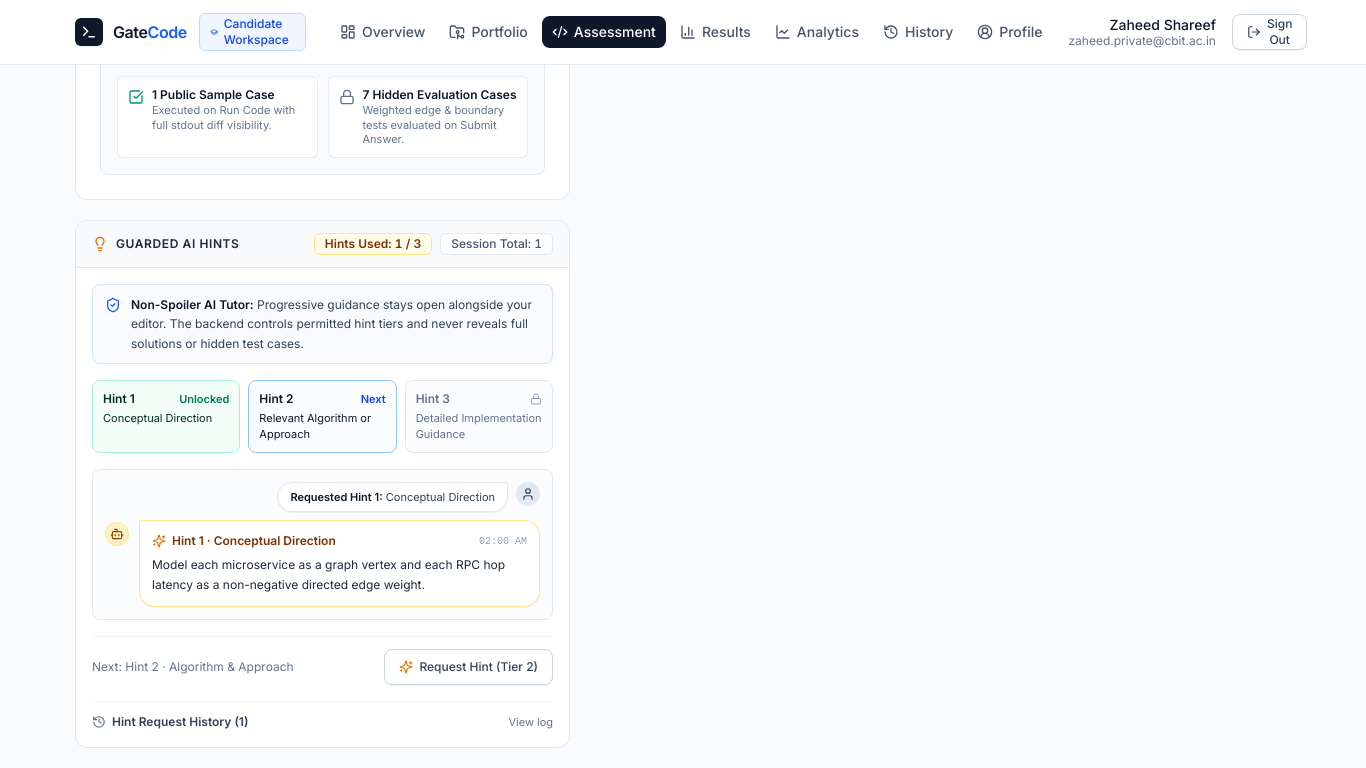
Test case: AI Intelligence, Analytics & Student Profile Frontend Modules › 2. displays progressive Hint 1, Hint 2, and Hint 3 levels, redacts leaked solution code, and handles AI service failures gracefully
(page scrolled)
Expected: the text "Model each microservice as a graph vertex" is shown, [152,557,505,592]
Expected: the text "Hints Used: 1 / 3" is shown, [314,233,432,255]
Step 1. Click the button "Request Hint (Tier 2)" → (469, 667), box [384,649,553,685]
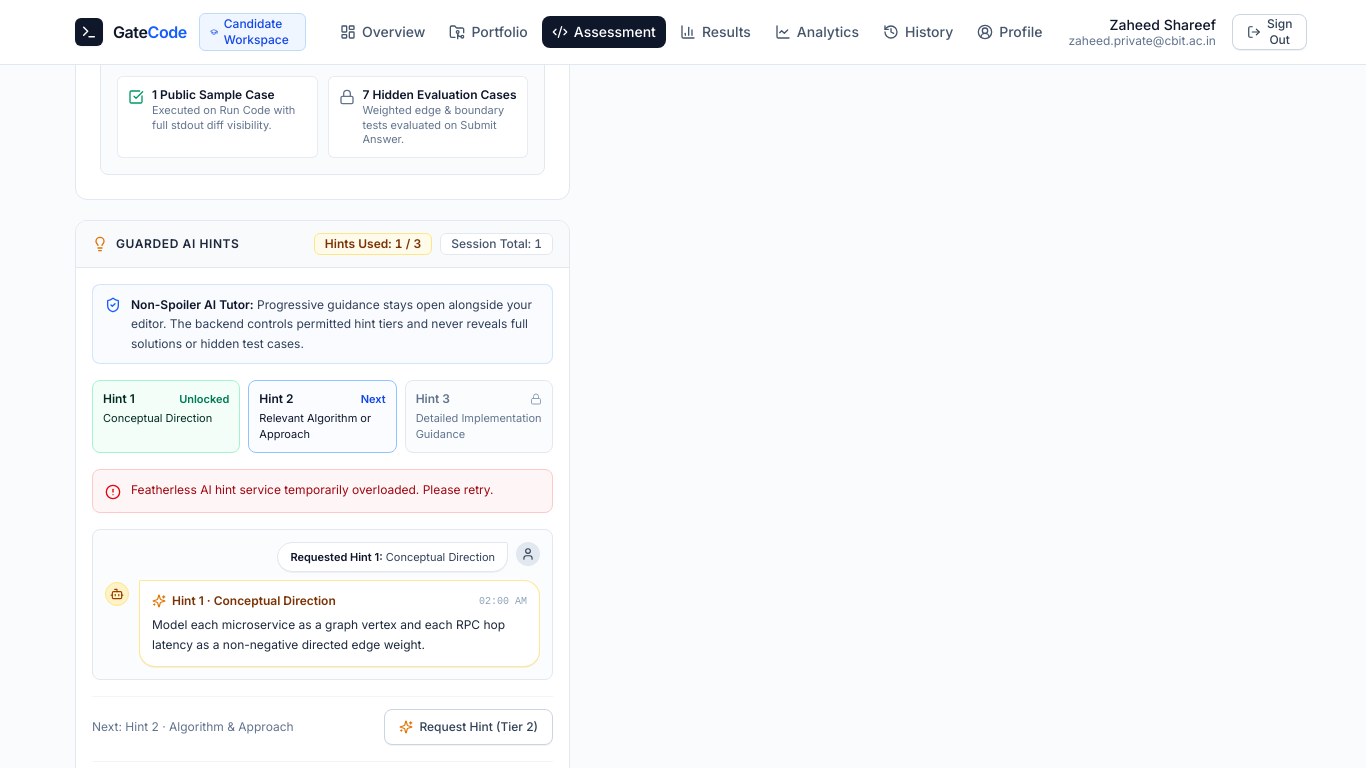
Expected: the text "Hints Used: 1 / 3" is shown, [314,233,432,255]
Expected: the text "Featherless AI hint service temporarily overloaded" is shown, [131,482,494,497]
Step 2. Click the button "Request Hint (Tier 2)" → (469, 727), box [384,709,553,745]
(page scrolled)
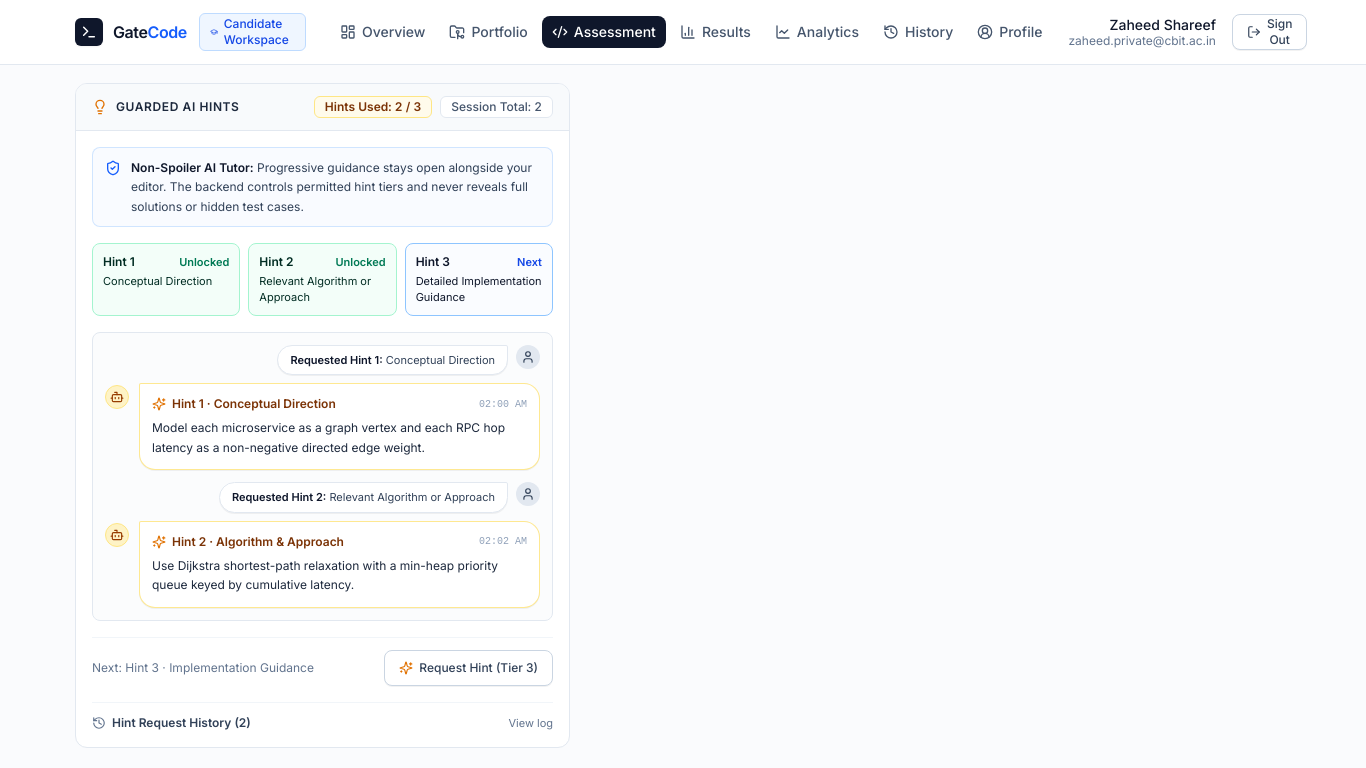
Expected: the text "Use Dijkstra shortest-path relaxation" is shown, [152,558,498,592]
Expected: the text "Hints Used: 2 / 3" is shown, [314,96,432,118]
Step 3. Click the button "Request Hint (Tier 3)" → (469, 668), box [384,650,553,686]
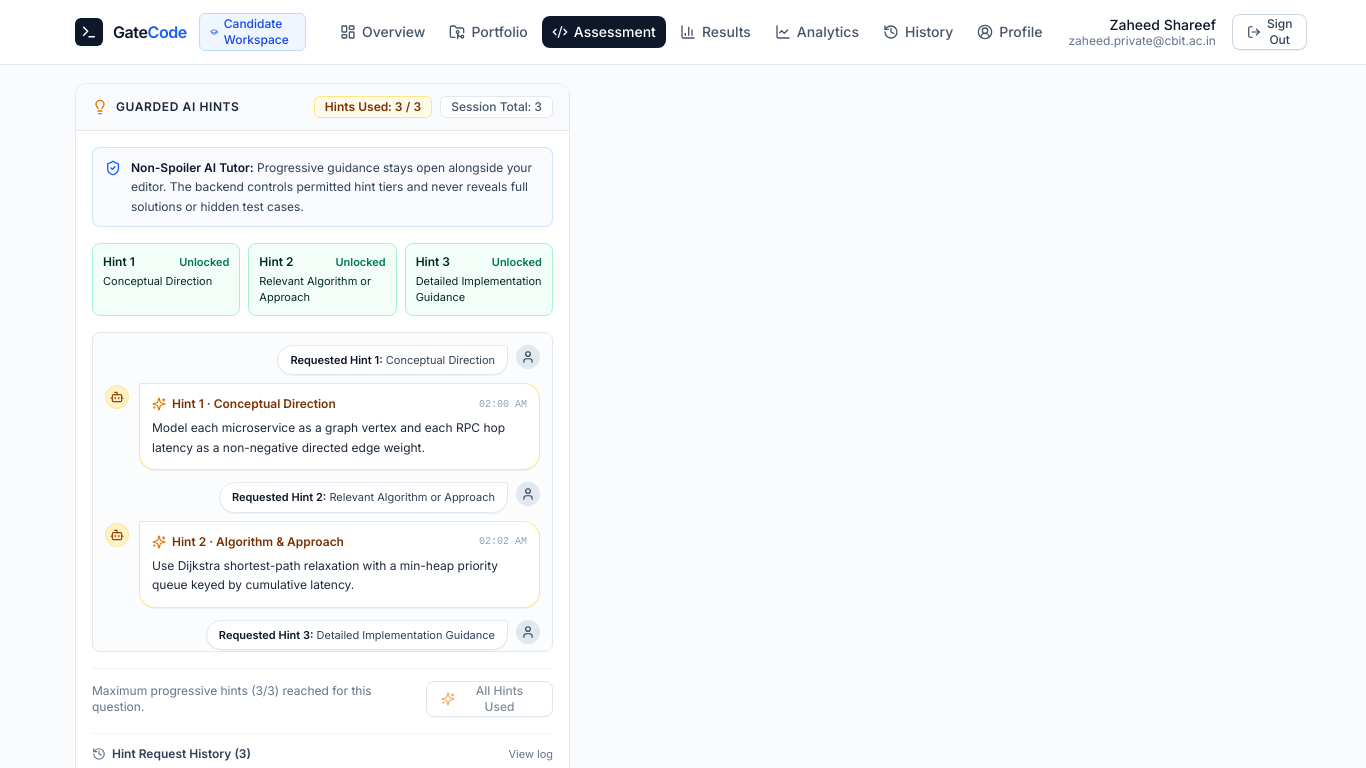
Expected: the text "Hints Used: 3 / 3" is shown, [314,96,432,118]
Expected: the button "All Hints Used" is disabled, [426,681,553,717]
